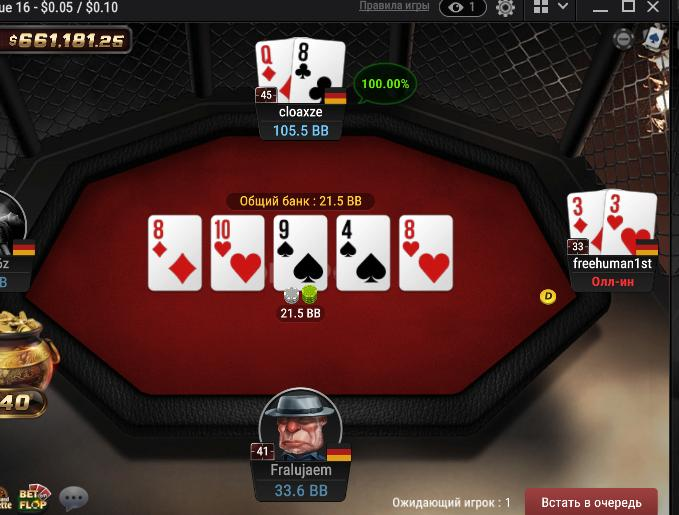10h: (211, 216, 265, 291)
3d: (566, 191, 604, 255)
3h: (605, 187, 657, 255)
4s: (338, 216, 389, 287)
8c: (294, 37, 345, 102)
8d: (149, 216, 201, 291)
8h: (400, 216, 452, 289)
9s: (273, 216, 328, 291)
Qd: (256, 40, 293, 102)
